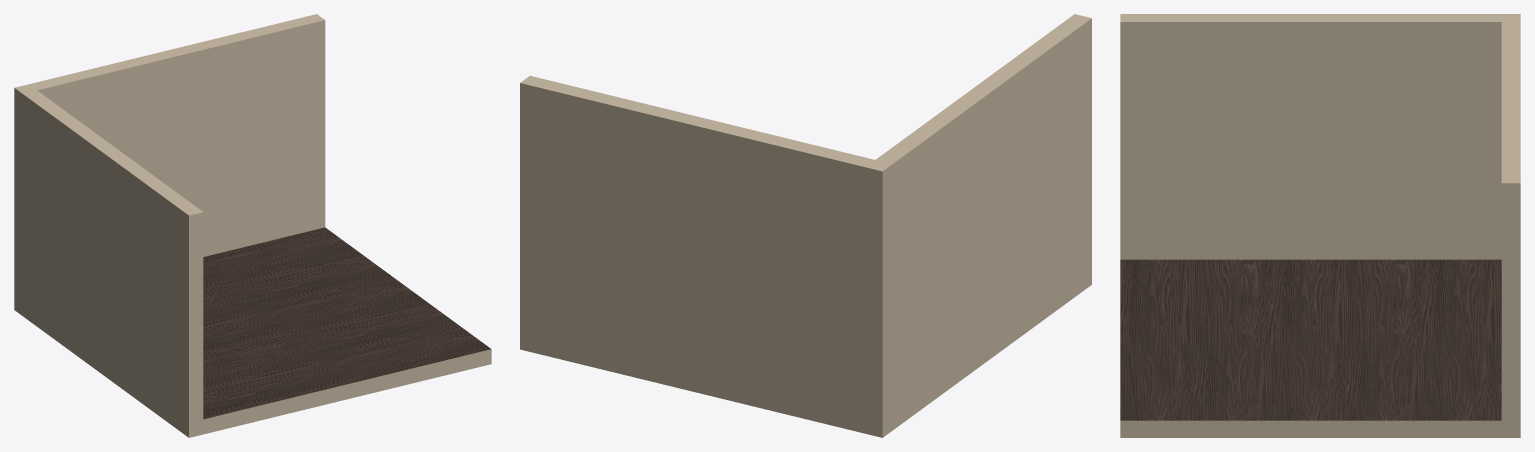
Rendered from Room.obj.
3 views of the same model, side by side, from view 1: azimuth 30°, elevation 25°; view 2: azimuth 150°, elevation 25°; view 3: azimuth 270°, elevation 25° (orthographic). The views are drawn at different scales.
Parts seen in each view (by area): view 1: Room_Plane; view 2: Room_Plane; view 3: Room_Plane.
Boxes of the visible parts, box(x1,y1,x2,y2) form: Room_Plane: box(14, 14, 491, 437); Room_Plane: box(520, 14, 1091, 437); Room_Plane: box(1120, 14, 1520, 437).
Bounding box in the file's own units: 8.4 × 5.9 × 8.4.
